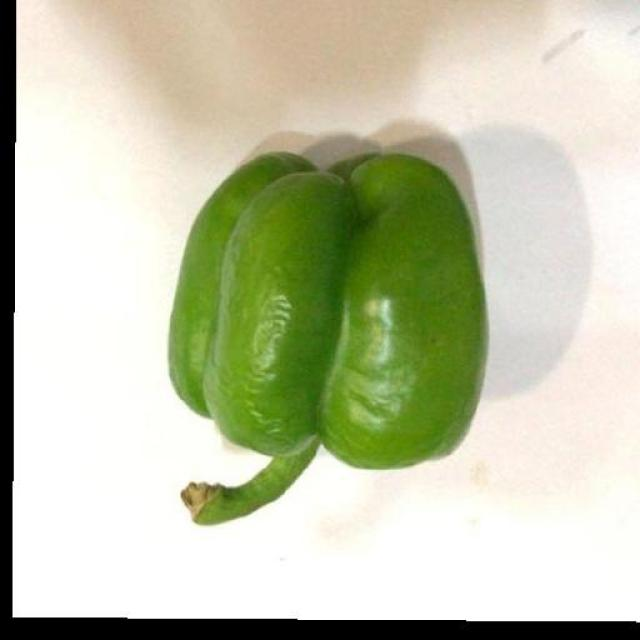Fresh_Capsicum: (153, 139, 480, 519)
